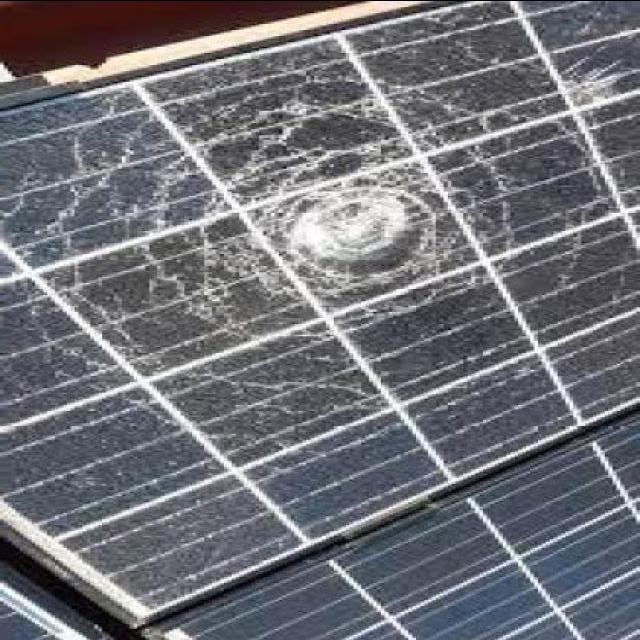cracked: (0, 6, 637, 626)
